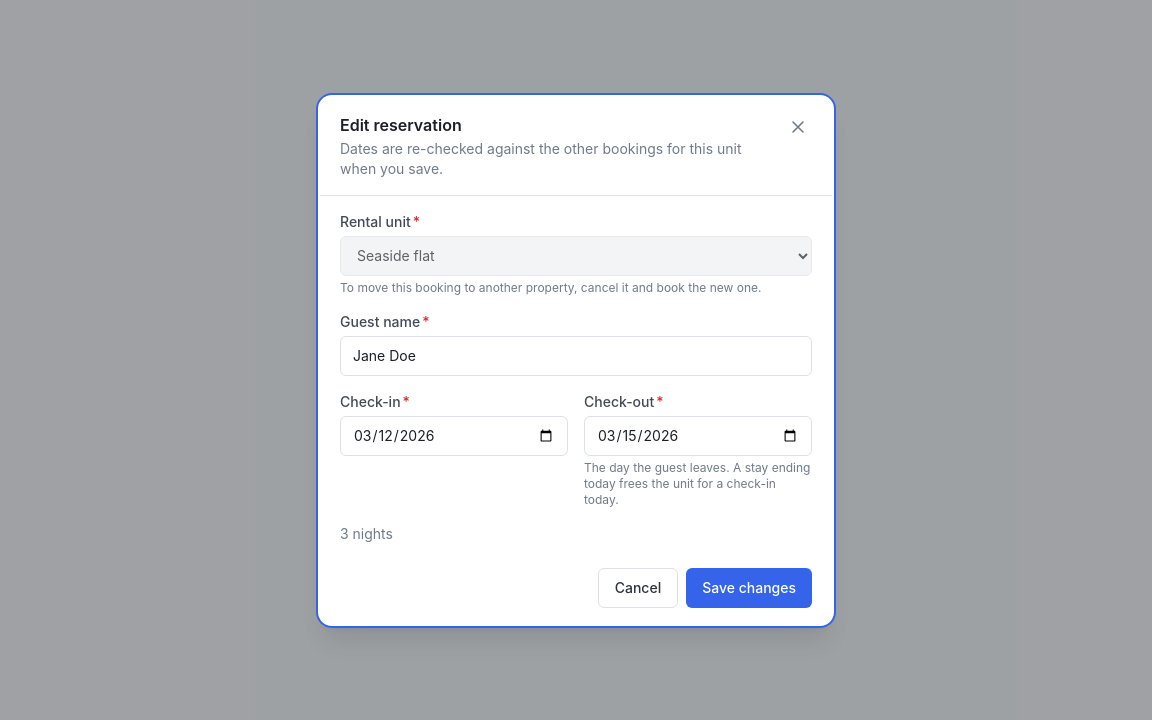
Scenario: ReservationFormModal — edit › shows the conflict on the edit form when the move lands on an occupied slot
The width and height of the screenshot is (1152, 720).
Expected: the field showing "Jane Doe" is shown, top-left (340, 336), bottom-right (812, 376)
In the date field labelled "Check-out*": (698, 436) top-left (584, 416), bottom-right (812, 456), type "2026-03-18"
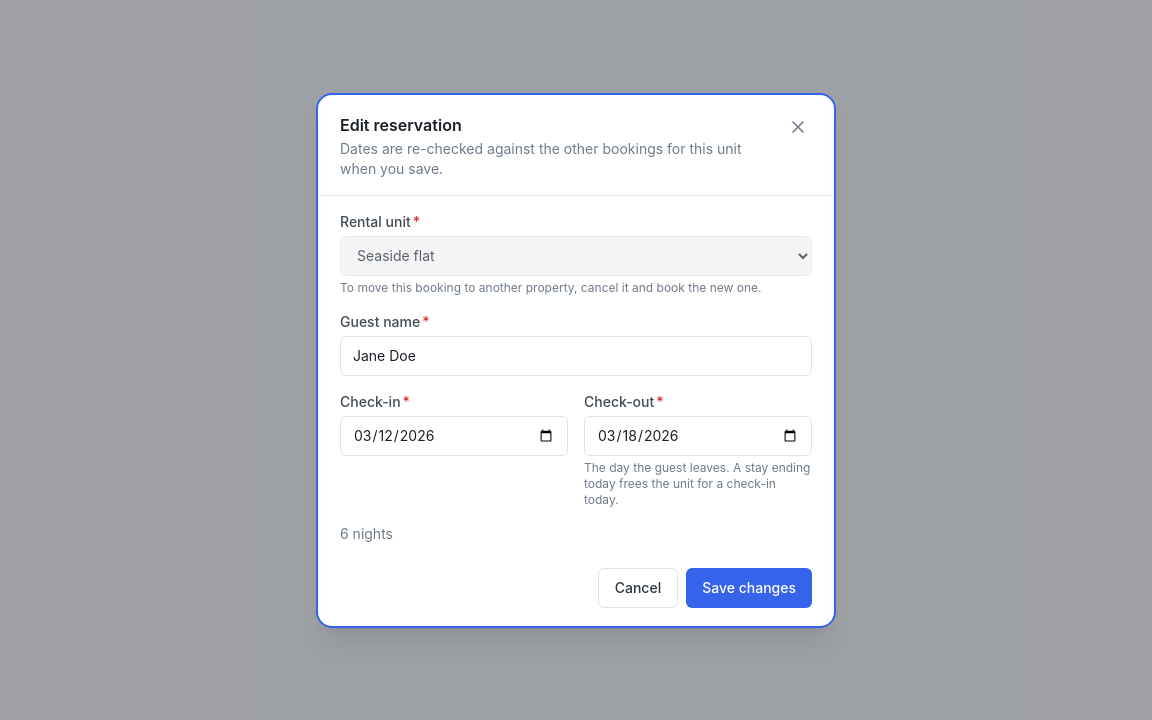
Click the button "Save changes": (749, 588) top-left (686, 568), bottom-right (812, 608)
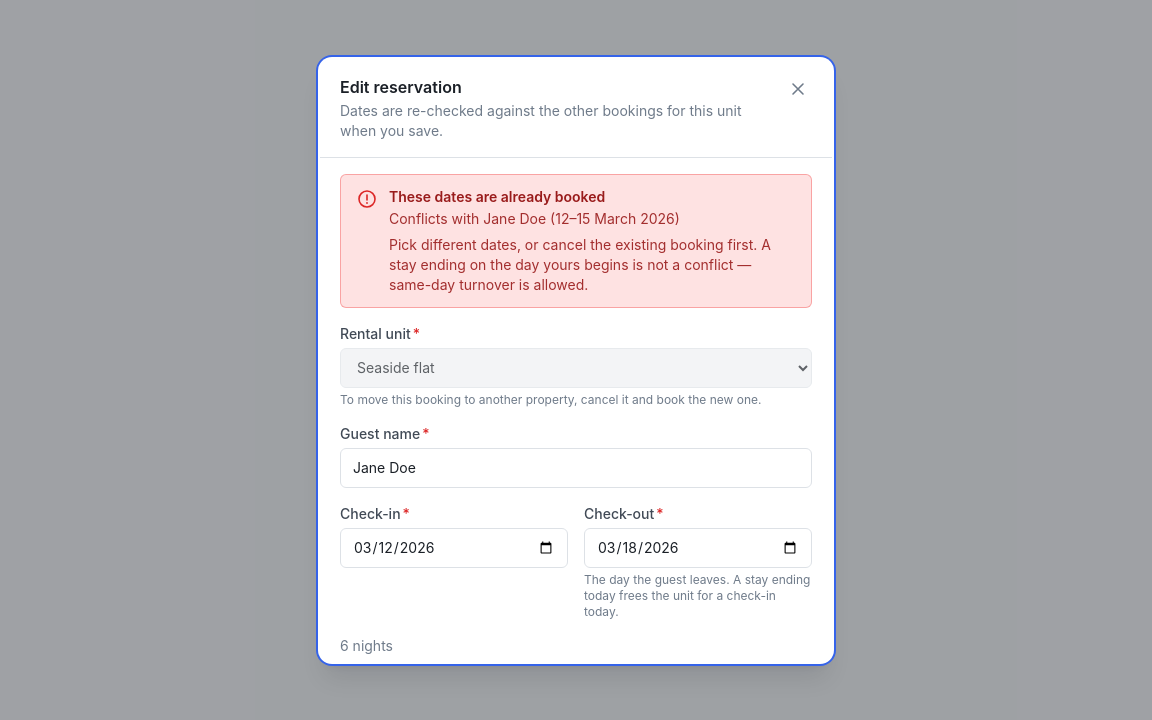
Now the list item "Conflicts with Jane Doe (12–15 March 2026)" is shown, box top-left (389, 210), bottom-right (680, 226)
